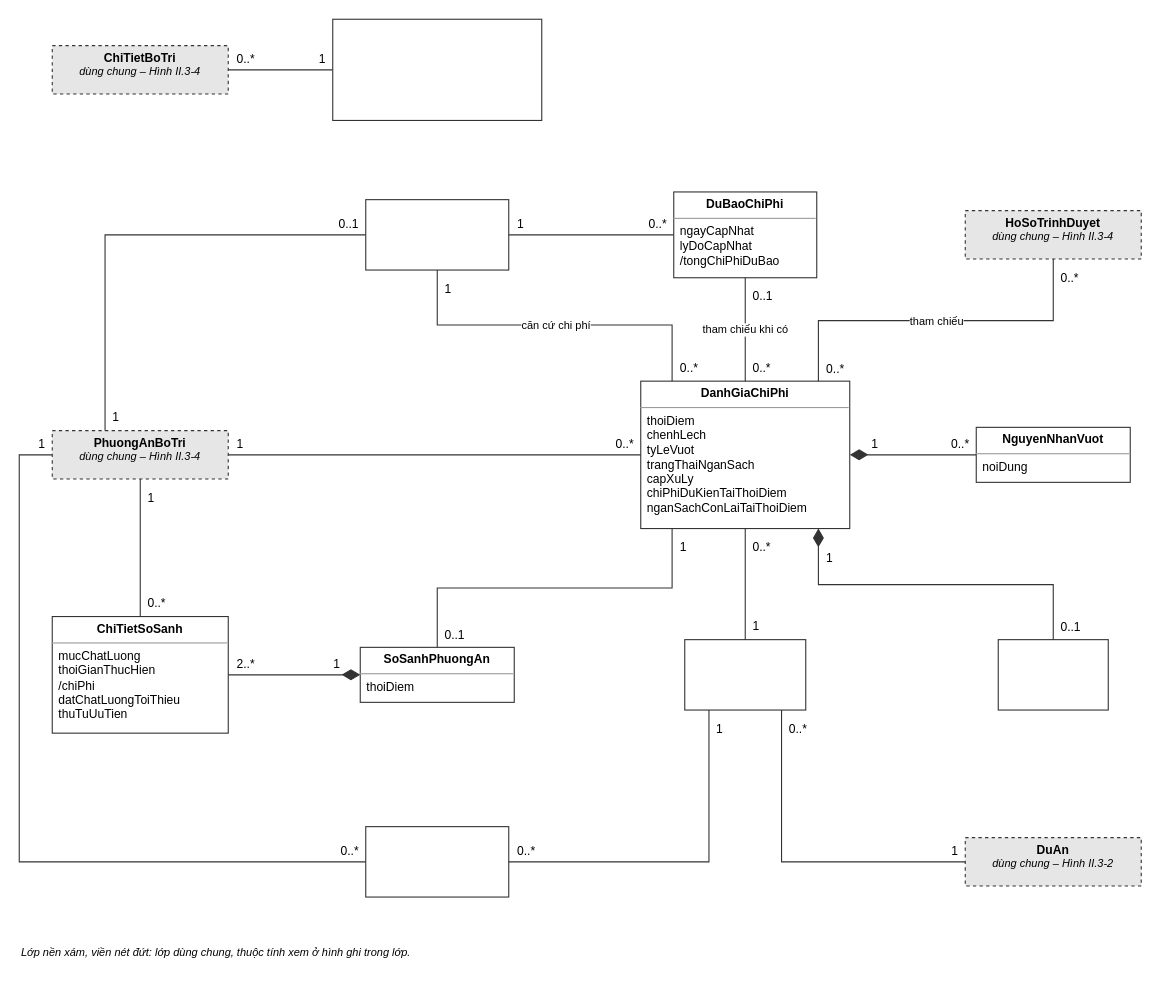
Image size: 1161x991. Some labels were removed from this diagram. Here are the shapes that lost their labels. From the top down, the centre of each, then its label:
point 437,69: DonGia loaiNguonLuc giaTri donViTinh = VNĐ/ngày công ngayApDung
point 437,234: DuToanChiPhi ngayLap /tongChiPhi
point 745,674: NganSach nganSachDuyet /conLai
point 1052,674: HuongXuLy loai ghiChu
point 437,861: ChiPhiThucTe soTien ngayPhatSinh
